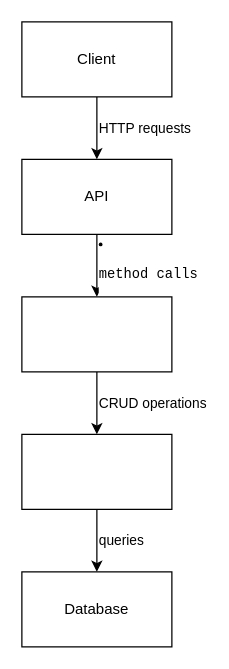
Image size: 229x669. Some labels were removed from this diagram. Here are the shapes that lost their labels. From the top down, the centre of each, then its label:
[96,334]: Services
[96,471]: Repositories
